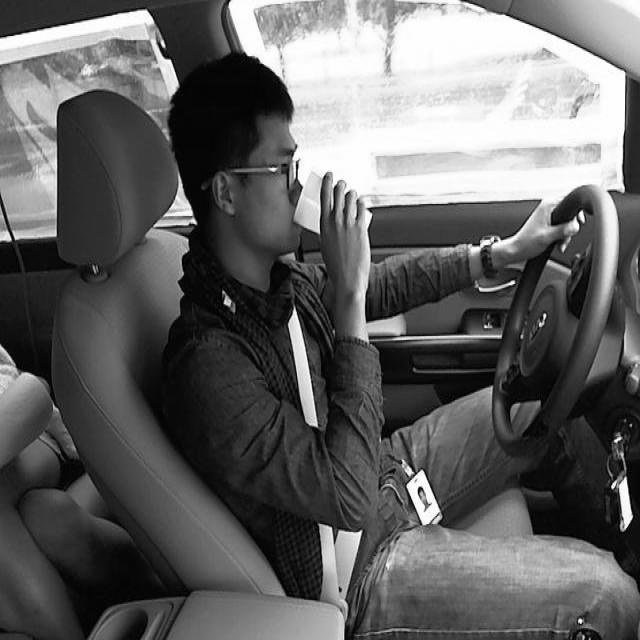Drinking: (295, 167, 373, 252)
